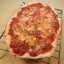pizza: (7, 1, 56, 61)
